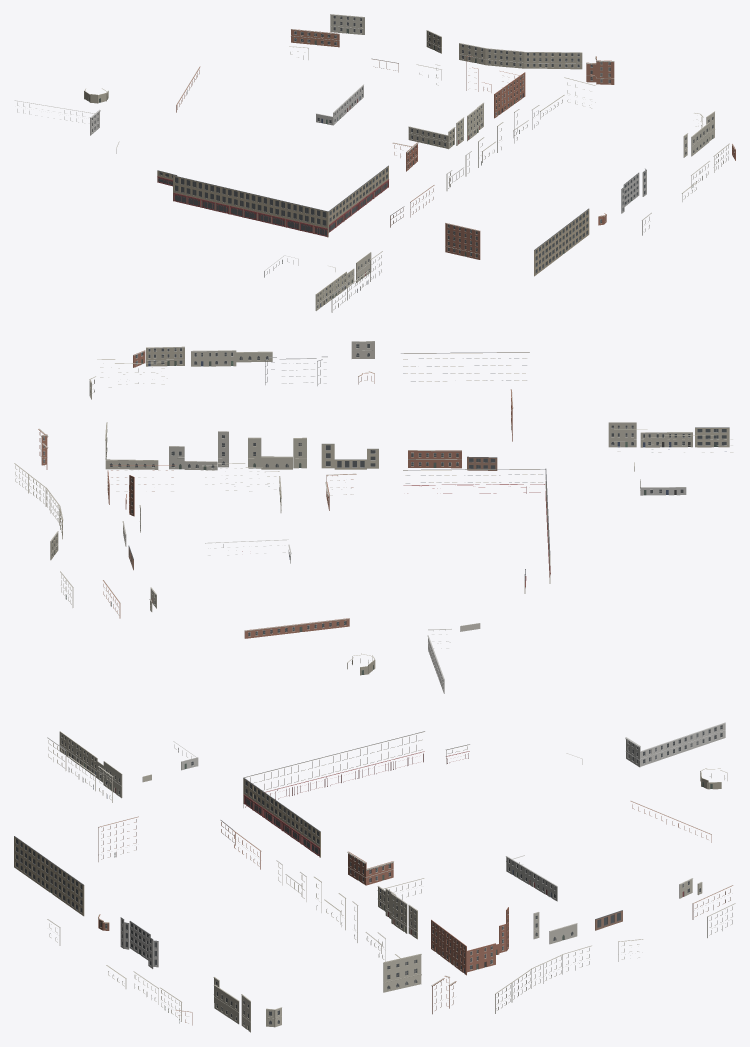
The picture shows the model from 3 angles, top to bottom: view 1: azimuth 30°, elevation 25°; view 2: azimuth 150°, elevation 25°; view 3: azimuth 270°, elevation 25°; orthographic projection. The views are drawn at different scales.
Visible parts, largest first — view 1: f:way/119881103, f:way/108047436, f:way/45826776, f:way/119881102, f:way/171234467, f:way/171233688, f:way/137147882, f:way/171234473, f:way/474859746, f:way/137147874, f:way/171234468, f:way/129101967 (+2 smaller); view 2: f:way/171234477, f:way/171234475, f:way/119881102, f:way/137148787, f:way/171234472, f:way/119881103, f:way/151074178, f:way/171233690, f:way/171233687, f:way/169704334, f:way/108047436, f:way/151074171 (+1 smaller); view 3: f:way/119881103, f:way/45826776, f:way/171234467, f:way/137151154, f:way/171233688, f:way/171234476, f:way/129101967, f:way/171234468, f:way/171234469, f:way/171234471, f:way/345304721, f:way/108047436 (+2 smaller).
Part boxes in pixels (box(x1,y1,x2,y2)): f:way/119881103: box(157, 165, 388, 237); f:way/108047436: box(426, 30, 582, 69); f:way/45826776: box(534, 208, 589, 276); f:way/119881102: box(410, 185, 480, 259); f:way/171234467: box(466, 56, 525, 118); f:way/171233688: box(683, 111, 714, 157); f:way/137147882: box(291, 29, 339, 47); f:way/171234473: box(408, 126, 455, 149); f:way/474859746: box(586, 56, 614, 84); f:way/137147874: box(330, 14, 364, 34); f:way/171234468: box(456, 102, 483, 145); f:way/129101967: box(621, 168, 646, 213); f:way/171234477: box(248, 437, 306, 469); f:way/171234475: box(169, 431, 228, 470); f:way/119881102: box(408, 389, 513, 468); f:way/137148787: box(244, 618, 349, 638); f:way/171234472: box(321, 443, 378, 469); f:way/119881103: box(403, 468, 550, 593); f:way/151074178: box(640, 432, 692, 447); f:way/171233690: box(191, 350, 236, 366); f:way/171233687: box(146, 346, 184, 366); f:way/169704334: box(608, 422, 636, 447); f:way/108047436: box(14, 463, 63, 560); f:way/151074171: box(695, 427, 729, 447); f:way/119881103: box(243, 731, 469, 857); f:way/45826776: box(14, 836, 84, 916); f:way/171234467: box(431, 907, 508, 975); f:way/137151154: box(625, 722, 725, 767); f:way/171233688: box(213, 977, 281, 1032); f:way/171234476: box(383, 954, 421, 992); f:way/129101967: box(120, 917, 158, 968); f:way/171234468: box(385, 888, 417, 939); f:way/171234469: box(347, 851, 393, 885); f:way/171234471: box(506, 855, 557, 901); f:way/345304721: box(59, 731, 97, 777); f:way/108047436: box(495, 939, 643, 1013).
Bounding box in the file's own units: 254 × 19.02 × 265.
